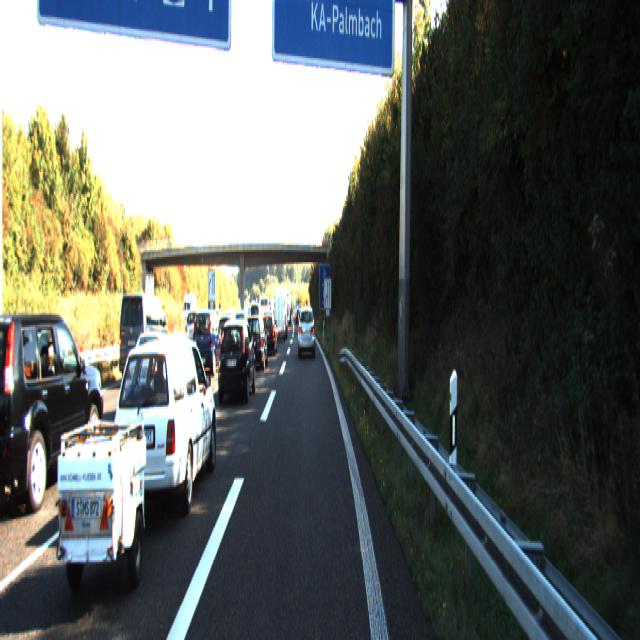Car: (0, 309, 108, 526), (111, 328, 220, 532), (54, 410, 155, 608), (124, 328, 184, 416), (118, 291, 170, 386), (217, 316, 256, 404), (192, 307, 224, 377), (242, 312, 268, 371), (298, 303, 315, 356), (260, 315, 278, 357), (273, 290, 287, 340)
